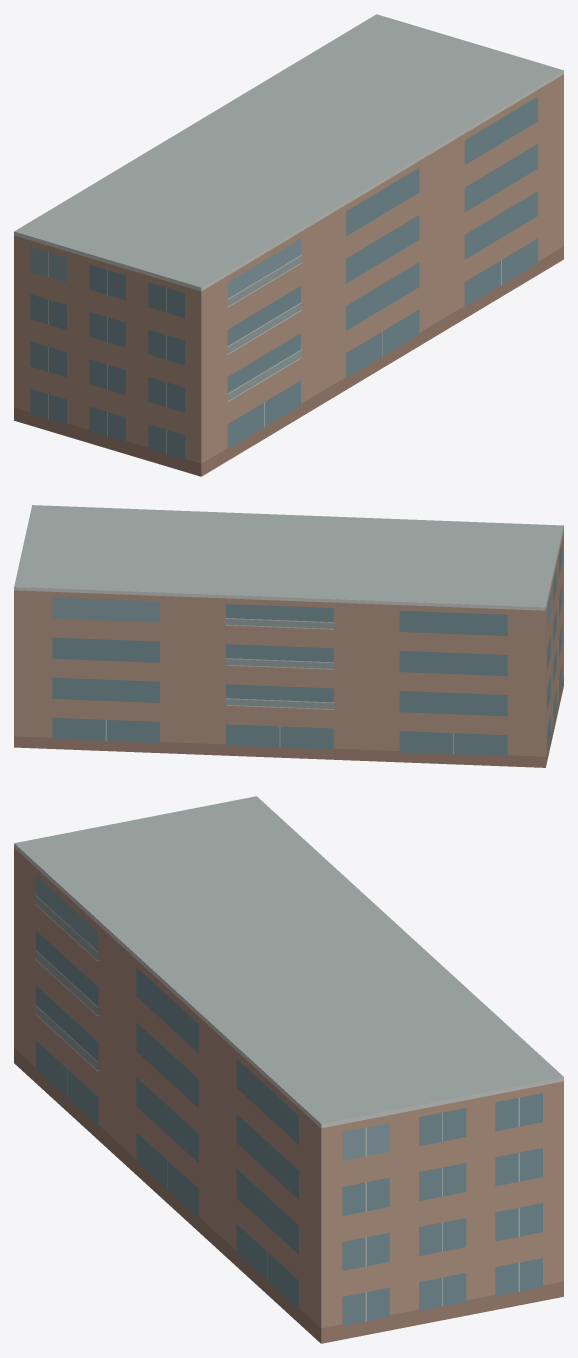
The model's file is survey-upis-32655914.glb.
The picture shows the model from 3 angles, top to bottom: view 1: azimuth 30°, elevation 25°; view 2: azimuth 150°, elevation 25°; view 3: azimuth 270°, elevation 25°; orthographic projection. The views are drawn at different scales.
Visible parts, largest first — view 1: survey-upis-32655914.tmp; view 2: survey-upis-32655914.tmp; view 3: survey-upis-32655914.tmp.
Part boxes in pixels (left/top/right/bottom): survey-upis-32655914.tmp: left=14, top=14, right=563, bottom=476; survey-upis-32655914.tmp: left=14, top=505, right=563, bottom=767; survey-upis-32655914.tmp: left=14, top=796, right=563, bottom=1343.
Bounding box in the file's own units: 38.04 × 11.9 × 26.97.
